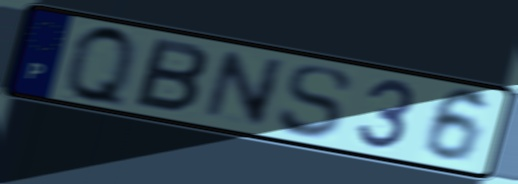3: (354, 77, 417, 152)
6: (418, 86, 496, 168)
B: (129, 34, 212, 117)
N: (199, 49, 290, 130)
Q: (63, 21, 138, 113)
S: (275, 64, 354, 140)
